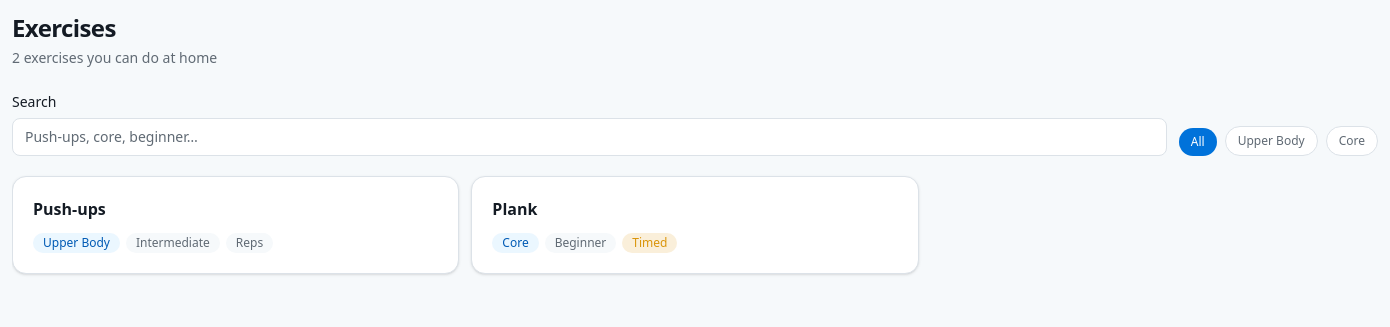
Scenario: the exercise library › explains when nothing matches
The width and height of the screenshot is (1390, 327).
Check: the text "Push-ups" is shown, box 33,198 -> 106,220
In the search field labelled "Search": (589, 137) 12,118 -> 1167,156, type "deadlift"
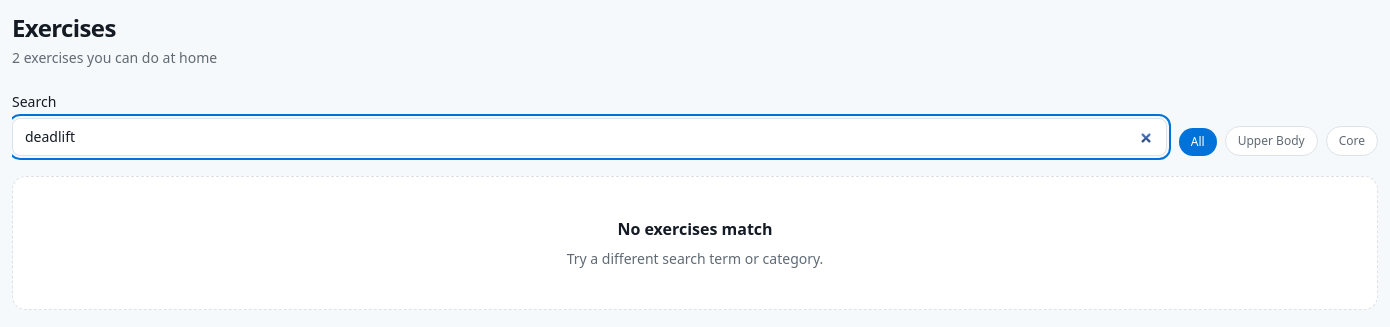
Check: the heading "No exercises match" is shown, box 617,218 -> 773,240
